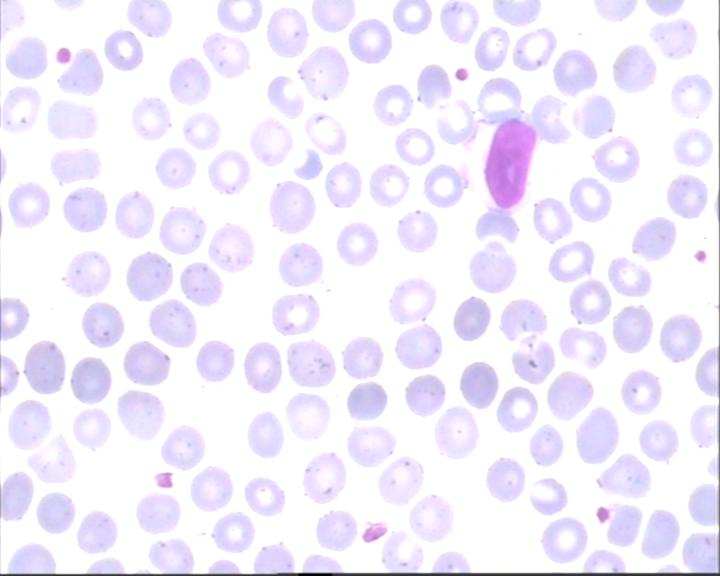mono: (465, 103, 545, 219)
